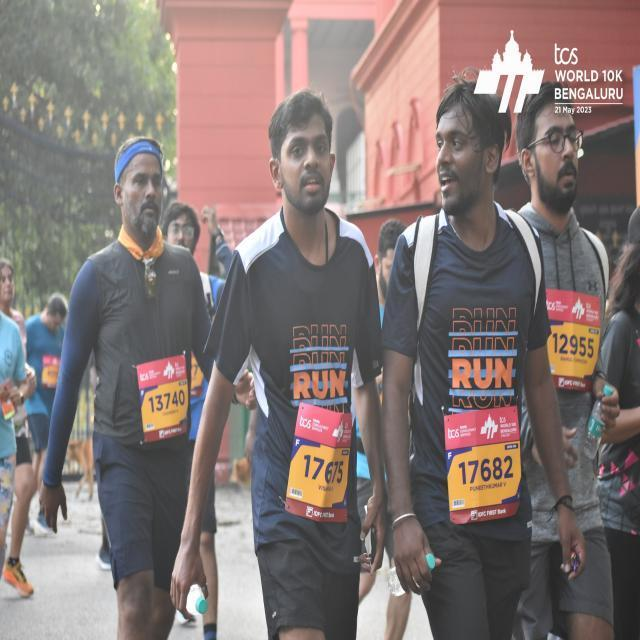dorsal: (443, 410, 523, 524), (290, 401, 352, 523), (544, 285, 600, 395), (134, 360, 191, 440)
